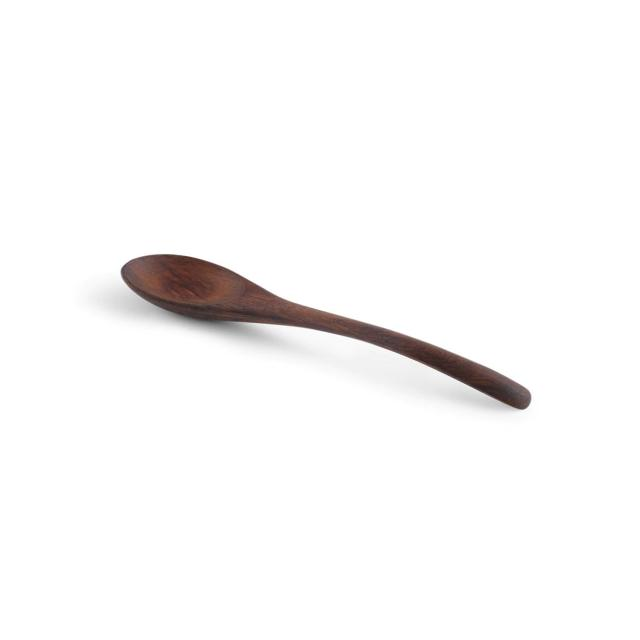spoon: (85, 235, 564, 427)
